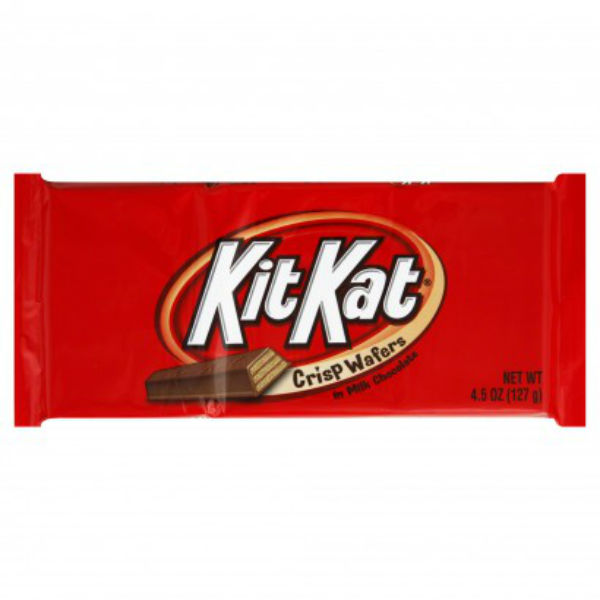kitkat: (12, 173, 588, 431)
